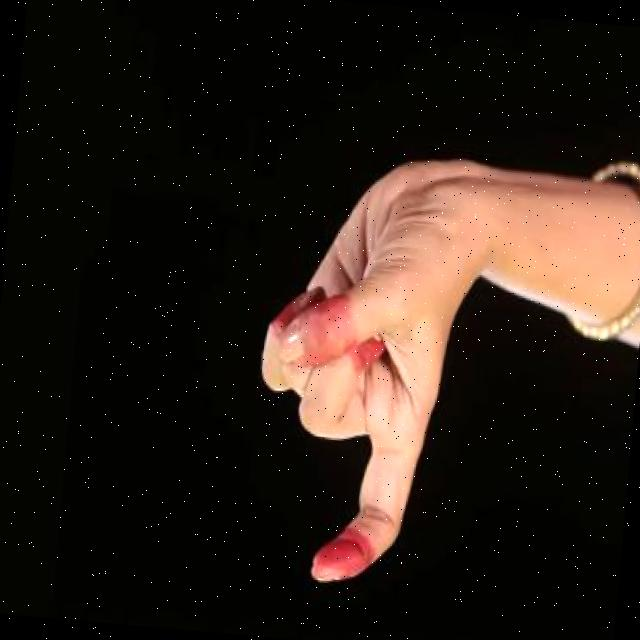Tamrachuda: (205, 101, 492, 616)
